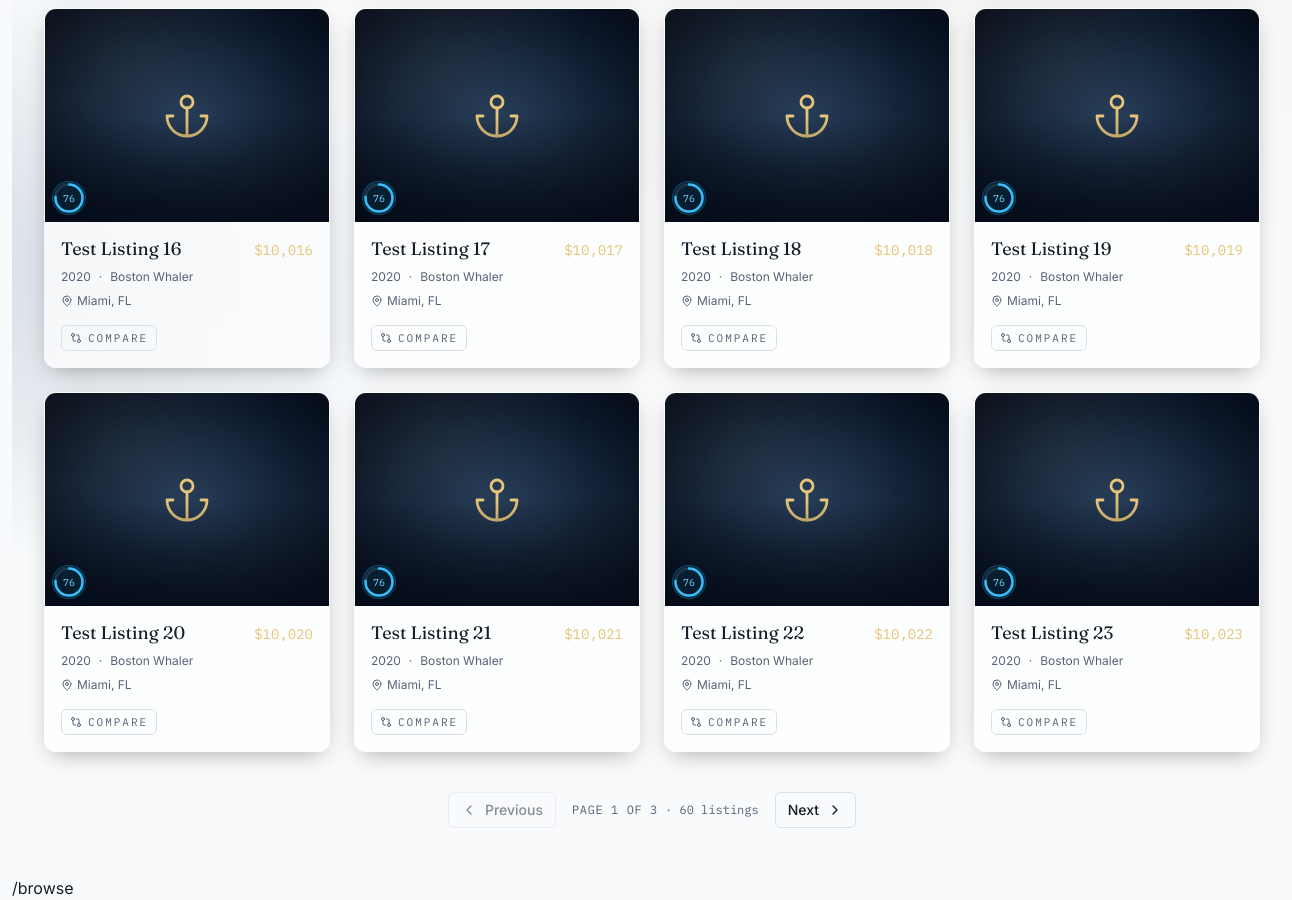
Scenario: BrowsePage pagination › disables Previous on the first page and Next on the last
(page scrolled)
Expected: the button with aria-label "Previous page" is disabled, left=448, top=792, right=556, bottom=828
Click the button with aria-label "Next page" at (815, 810), box left=775, top=792, right=856, bottom=828
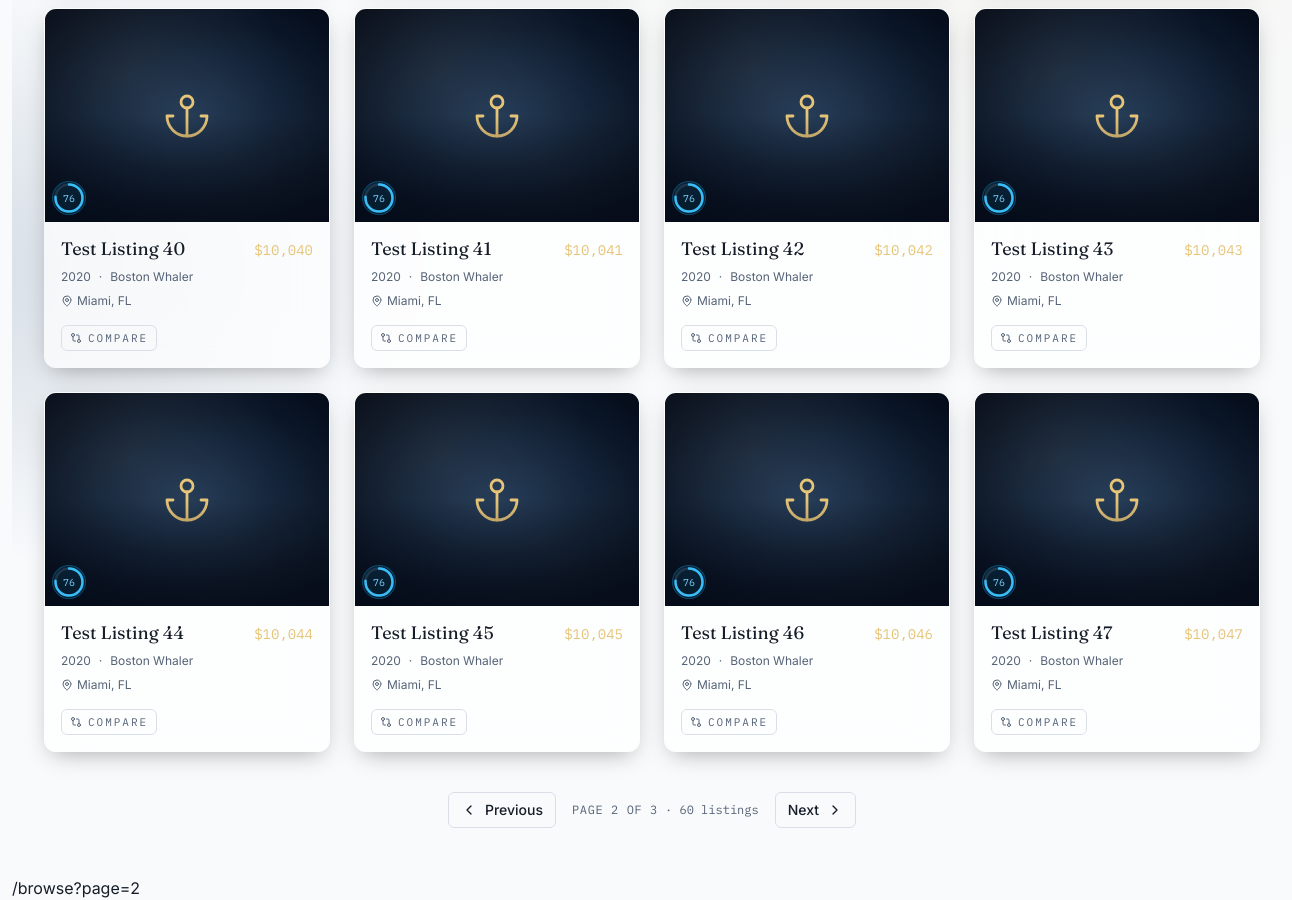
Click the button with aria-label "Next page" at (815, 810), box left=775, top=792, right=856, bottom=828
(page scrolled)
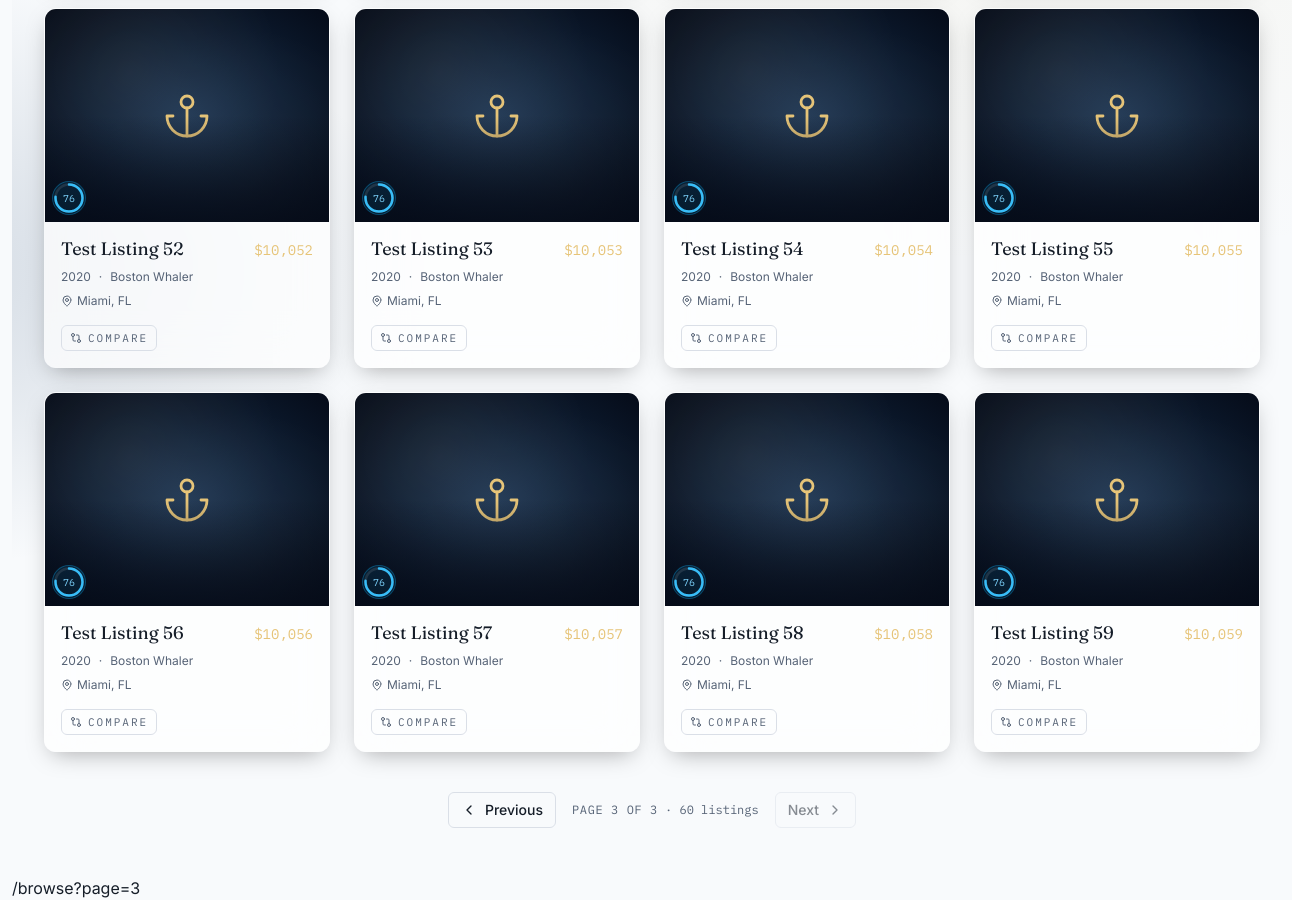
Expected: the button with aria-label "Previous page" is enabled, left=448, top=792, right=556, bottom=828
Expected: the text "Page 3 of 3 · 60 listings" is shown, left=572, top=802, right=759, bottom=818
Expected: the button with aria-label "Next page" is disabled, left=775, top=792, right=856, bottom=828
